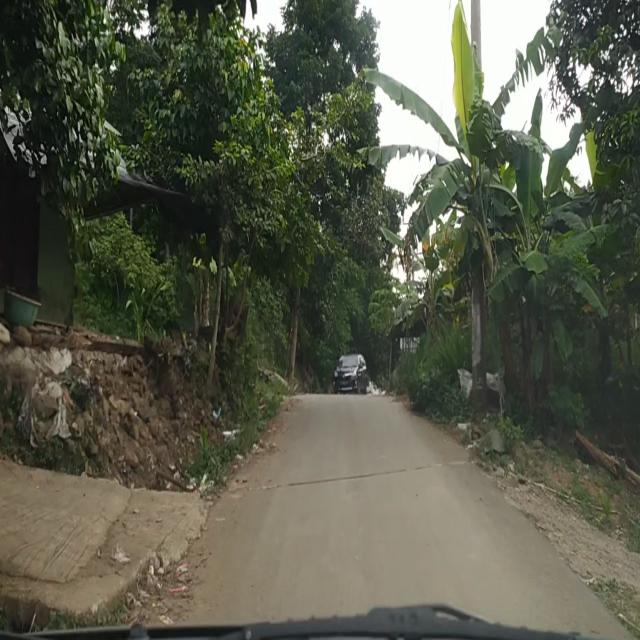Sewer Cover: (258, 462, 438, 487)
